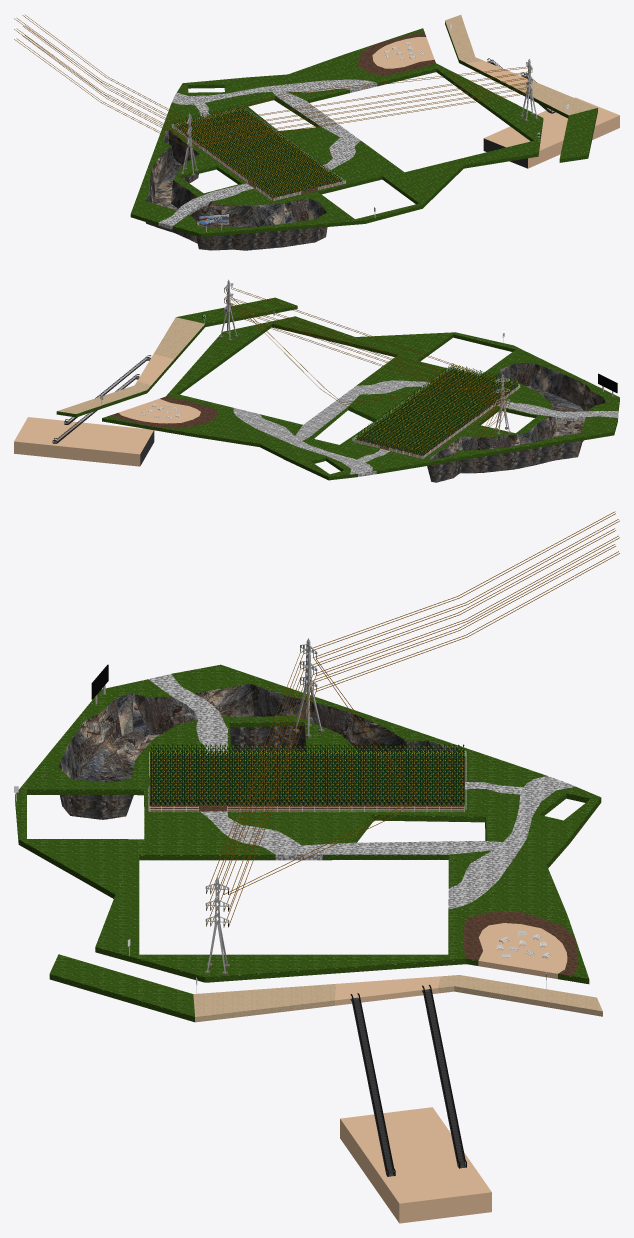
The model's file is University.glb.
3 renders of one model, top to bottom at view 1: azimuth 30°, elevation 25°; view 2: azimuth 150°, elevation 25°; view 3: azimuth 270°, elevation 25°, orthographic. The views are drawn at different scales.
Parts seen in each view (by area): view 1: Ground, Corn, Wires, Dock, Wires.001, Fences, Tower.001, Tower; view 2: Ground, Corn, Dock, Wires, Railings, Fences, Wires.001, Tower, Tower.001; view 3: Ground, Corn, Dock, Wires, Railings, Fences, Escalatorstairs, Escalatorstairs.001, Tower.
Part boxes in pixels (x1,y1,x2,y2): Ground: (130,15,597,250); Corn: (173,104,342,199); Wires: (14,15,531,147); Dock: (483,97,619,168); Wires.001: (191,66,527,122); Fences: (172,108,345,200); Tower.001: (520,59,538,121); Tower: (180,113,198,176); Ground: (56,297,619,482); Corn: (356,363,518,456); Dock: (14,417,154,466); Wires: (225,288,509,440); Railings: (52,355,151,443); Fences: (352,367,520,458); Wires.001: (224,292,498,404); Tower: (494,374,511,434); Tower.001: (219,279,238,340); Ground: (15,664,602,1022); Corn: (148,744,464,808); Dock: (340,1107,491,1223); Wires: (206,511,619,927); Railings: (350,985,466,1176); Fences: (148,750,466,811); Escalatorstairs: (353,997,392,1174); Escalatorstairs.001: (423,989,464,1165); Tower: (292,638,324,737).
Bounding box in the file's own units: 255 × 84.91 × 156.
31 materials, 6 textured.
